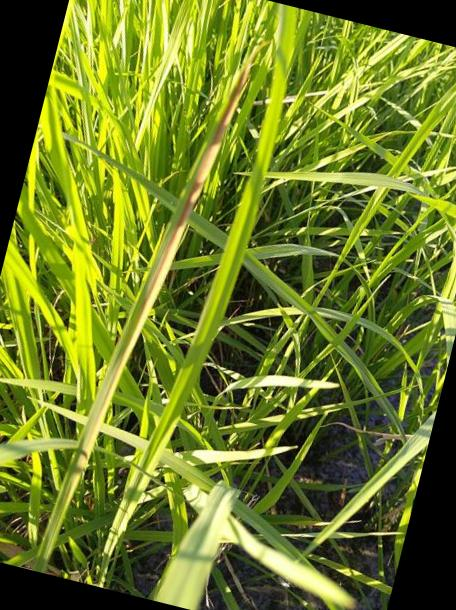Leaf Streak: (39, 64, 251, 567)
